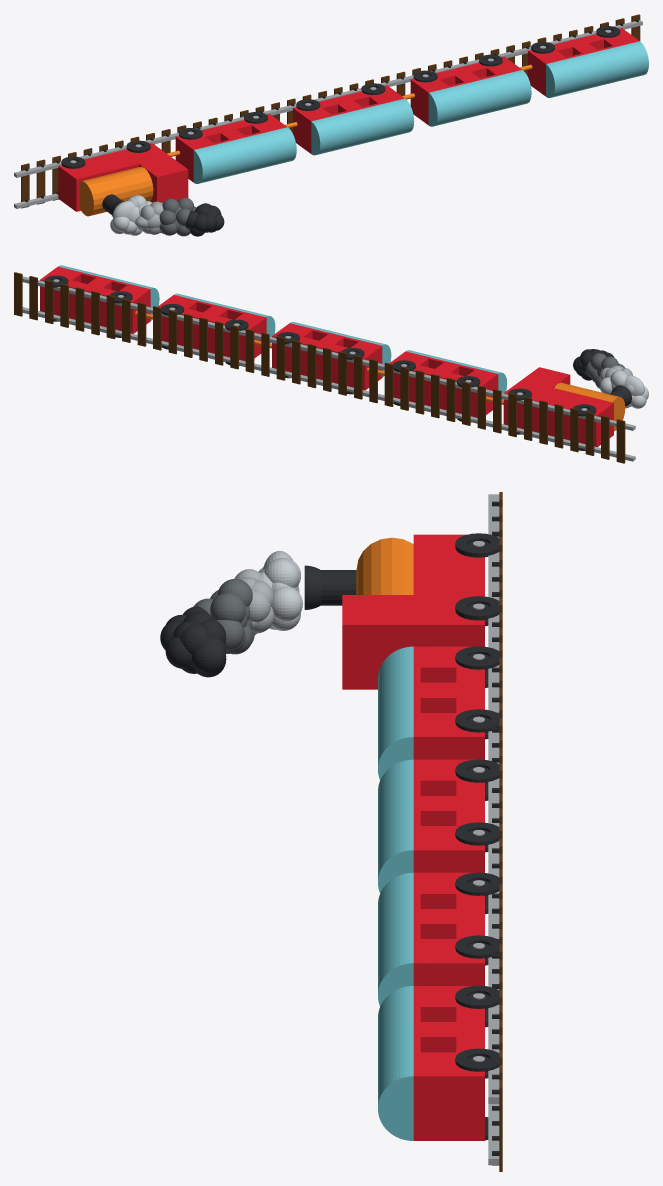
File: tinker.obj
3 views of the same model, one above another, from view 1: azimuth 30°, elevation 25°; view 2: azimuth 150°, elevation 25°; view 3: azimuth 270°, elevation 25° (orthographic). The views are drawn at different scales.
Visible parts, largest first — view 1: group_0_7720667, group_0_15277357, group_0_2829873, group_0_6306067, group_0_10988977, group_0_16089887, group_0_6383466, group_0_12568524; view 2: group_0_6306067, group_0_15277357, group_0_10988977, group_0_2829873, group_0_7720667, group_0_12568524, group_0_16089887, group_0_6383466; view 3: group_0_15277357, group_0_7720667, group_0_2829873, group_0_10988977, group_0_16089887, group_0_6306067, group_0_6383466, group_0_12568524.
Part boxes in pixels (x1,y1,x2,y2): group_0_7720667: [193, 41, 648, 183]; group_0_15277357: [58, 28, 639, 211]; group_0_2829873: [25, 19, 638, 236]; group_0_6306067: [21, 14, 640, 208]; group_0_10988977: [14, 20, 642, 234]; group_0_16089887: [79, 64, 532, 216]; group_0_6383466: [159, 197, 196, 236]; group_0_12568524: [110, 195, 151, 235]; group_0_6306067: [14, 272, 625, 463]; group_0_15277357: [40, 266, 613, 446]; group_0_10988977: [22, 276, 635, 461]; group_0_2829873: [44, 275, 631, 450]; group_0_7720667: [58, 265, 507, 400]; group_0_12568524: [599, 370, 648, 408]; group_0_16089887: [135, 311, 625, 431]; group_0_6383466: [585, 353, 624, 388]; group_0_15277357: [342, 534, 484, 1140]; group_0_7720667: [378, 646, 413, 1140]; group_0_2829873: [160, 501, 502, 1165]; group_0_10988977: [234, 494, 499, 1165]; group_0_16089887: [356, 537, 413, 594]; group_0_6306067: [499, 492, 502, 1171]; group_0_6383466: [193, 579, 254, 654]; group_0_12568524: [258, 550, 302, 630].
Bounding box in the file's own units: 200 × 13 × 48.
